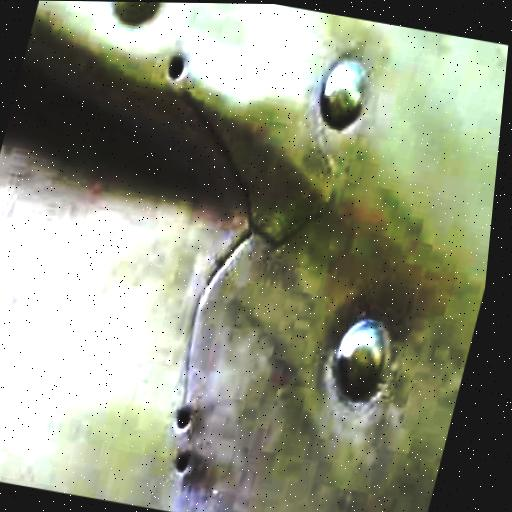crack: (167, 225, 253, 409), (163, 81, 263, 228)
